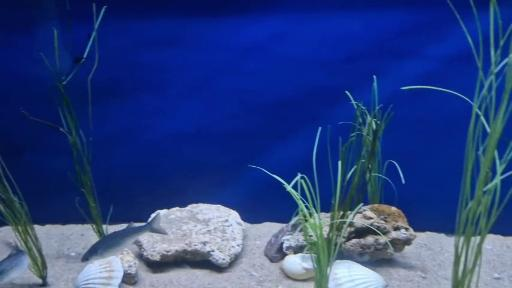Fish: (82, 214, 167, 262), (0, 242, 29, 283)
